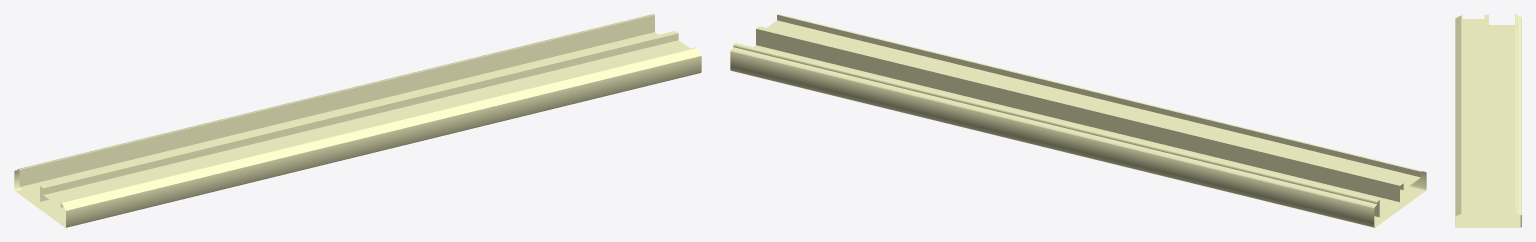
Rendered from original-9.obj.
3 renders of one model, left to right at view 1: azimuth 30°, elevation 25°; view 2: azimuth 150°, elevation 25°; view 3: azimuth 270°, elevation 25°, orthographic. The views are drawn at different scales.
Visible parts, largest first — view 1: FRAME_BC1/FRAME_BC/mesh75/mesh75-geometry#mesh75-geometry; view 2: FRAME_BC1/FRAME_BC/mesh75/mesh75-geometry#mesh75-geometry; view 3: FRAME_BC1/FRAME_BC/mesh75/mesh75-geometry#mesh75-geometry.
Boxes of the visible parts, bbox=[...] form: FRAME_BC1/FRAME_BC/mesh75/mesh75-geometry#mesh75-geometry: bbox=[14, 14, 701, 227]; FRAME_BC1/FRAME_BC/mesh75/mesh75-geometry#mesh75-geometry: bbox=[730, 14, 1426, 227]; FRAME_BC1/FRAME_BC/mesh75/mesh75-geometry#mesh75-geometry: bbox=[1455, 14, 1521, 227].
Bounding box in the file's own units: 0.9776 × 0.0358 × 0.1378.
